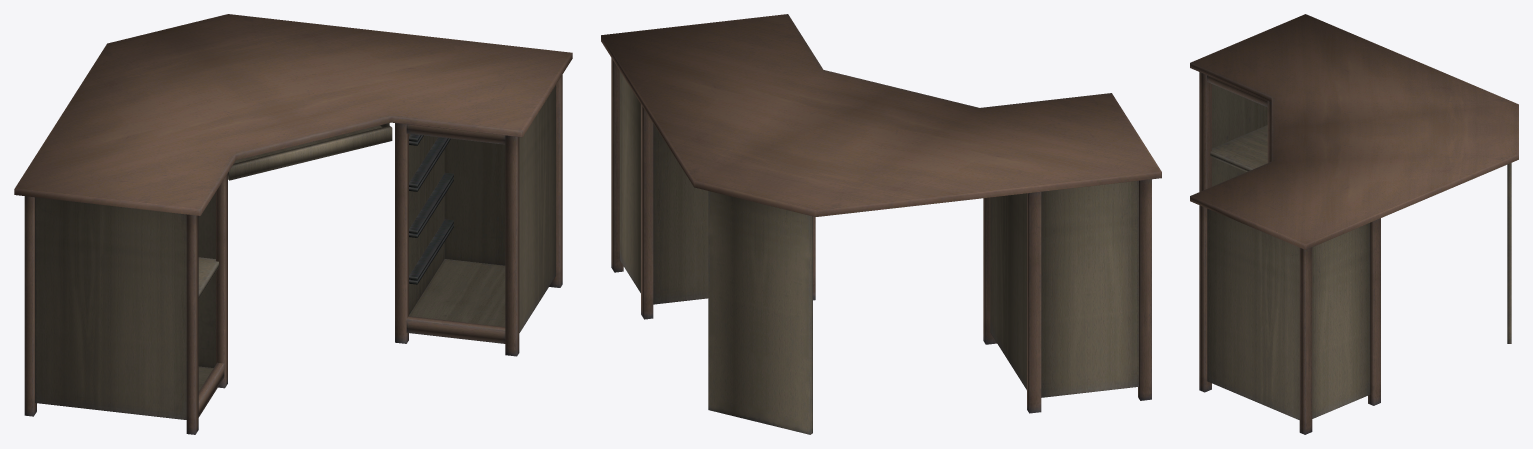
Rendered from workdesk_corner.dae.
3 views of the same model, side by side, from view 1: azimuth 30°, elevation 25°; view 2: azimuth 150°, elevation 25°; view 3: azimuth 270°, elevation 25° (orthographic). The views are drawn at different scales.
Visible parts, largest first — view 1: workdesk_corner; view 2: workdesk_corner; view 3: workdesk_corner.
Boxes of the visible parts, x1,y1,x2,y2 form: workdesk_corner: (14,14,572,434); workdesk_corner: (601,14,1161,434); workdesk_corner: (1190,14,1518,434).
Size of the model in its own units: 515 by 202 by 310.
